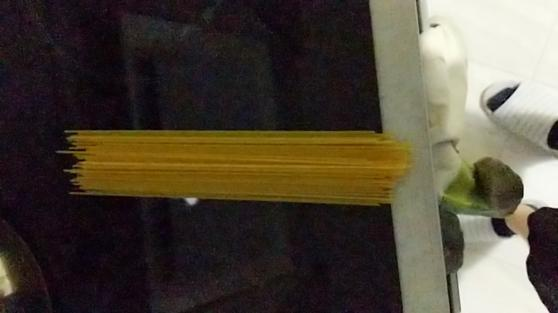spaghetti: (52, 110, 423, 223)
